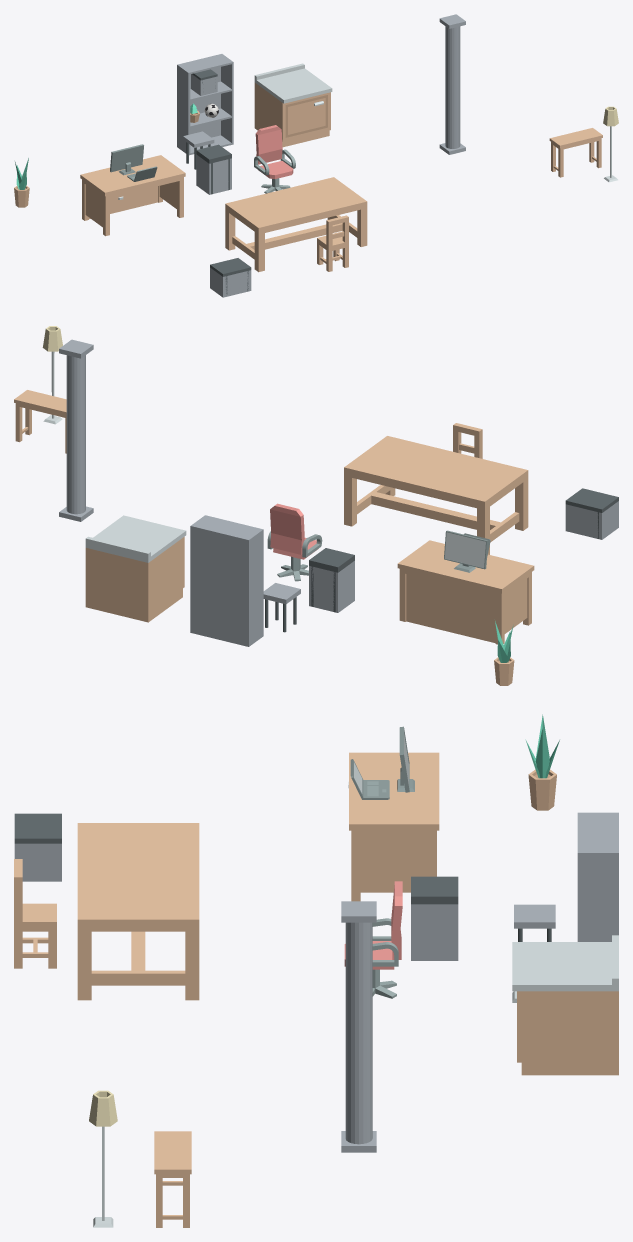
3 renders of one model, top to bottom at view 1: azimuth 30°, elevation 25°; view 2: azimuth 150°, elevation 25°; view 3: azimuth 270°, elevation 25°, orthographic. The views are drawn at different scales.
Visible parts, largest first — view 1: table_green__table(Clone), desk_blue__desk(Clone), cabinet_blue__kitchenCabinet(Clone), column_cyan__column_cyan shaft, deskchair_black__chair, cabinet_blue__door, sidetable_brown__sideTable(Clone), chair_cyan__chair(Clone), shelf_orange__shelf_orange side_l, bin_gray__bin_gray shell, crate_red__crate_red shell, shelf_orange__shelf_orange side_r (+7 smaller); view 2: table_green__table(Clone), desk_blue__desk(Clone), cabinet_blue__kitchenCabinet(Clone), shelf_orange__shelf_orange back, column_cyan__column_cyan shaft, deskchair_black__chair, shelf_orange__shelf_orange side_l, bin_gray__bin_gray shell, sidetable_brown__sideTable(Clone), crate_red__crate_red shell, monitor_gray__computerScreen(Clone), crate_red__crate_red lid (+5 smaller); view 3: table_green__table(Clone), cabinet_blue__kitchenCabinet(Clone), desk_blue__desk(Clone), column_cyan__column_cyan shaft, shelf_orange__shelf_orange side_r, bin_gray__bin_gray shell, chair_cyan__chair(Clone), sidetable_brown__sideTable(Clone), deskchair_black__chair, crate_red__crate_red shell, shelf_orange__shelf_orange board3, crate_red__crate_red lid (+7 smaller).
Part boxes in pixels (<box>): table_green__table(Clone): <box>225,177,367,272</box>; desk_blue__desk(Clone): <box>80,155,185,236</box>; cabinet_blue__kitchenCabinet(Clone): <box>254,63,332,147</box>; column_cyan__column_cyan shaft: <box>445,26,460,148</box>; deskchair_black__chair: <box>254,125,295,178</box>; cabinet_blue__door: <box>285,95,327,137</box>; sidetable_brown__sideTable(Clone): <box>549,128,602,177</box>; chair_cyan__chair(Clone): <box>317,215,348,271</box>; shelf_orange__shelf_orange side_l: <box>177,64,190,155</box>; bin_gray__bin_gray shell: <box>196,154,231,194</box>; crate_red__crate_red shell: <box>210,267,251,297</box>; shelf_orange__shelf_orange side_r: <box>221,54,233,144</box>; table_green__table(Clone): <box>344,436,528,554</box>; desk_blue__desk(Clone): <box>397,540,534,644</box>; cabinet_blue__kitchenCabinet(Clone): <box>85,515,186,622</box>; shelf_orange__shelf_orange back: <box>192,526,246,646</box>; column_cyan__column_cyan shaft: <box>66,355,85,514</box>; deskchair_black__chair: <box>267,503,322,559</box>; shelf_orange__shelf_orange side_l: <box>246,529,263,646</box>; bin_gray__bin_gray shell: <box>309,561,354,612</box>; sidetable_brown__sideTable(Clone): <box>14,390,66,453</box>; crate_red__crate_red shell: <box>565,501,618,539</box>; monitor_gray__computerScreen(Clone): <box>444,530,488,572</box>; crate_red__crate_red lid: <box>565,488,618,512</box>; table_green__table(Clone): <box>77,823,199,1000</box>; cabinet_blue__kitchenCabinet(Clone): <box>512,935,618,1075</box>; desk_blue__desk(Clone): <box>349,752,439,901</box>; column_cyan__column_cyan shaft: <box>345,922,372,1144</box>; shelf_orange__shelf_orange side_r: <box>577,851,618,941</box>; bin_gray__bin_gray shell: <box>411,904,458,960</box>; chair_cyan__chair(Clone): <box>14,859,56,968</box>; sidetable_brown__sideTable(Clone): <box>154,1131,191,1227</box>; deskchair_black__chair: <box>344,881,402,969</box>; crate_red__crate_red shell: <box>14,843,61,881</box>; shelf_orange__shelf_orange board3: <box>577,814,616,851</box>; crate_red__crate_red lid: <box>14,813,61,843</box>.
Size of the model in its own units: 8.56 by 2.2 by 5.11.
